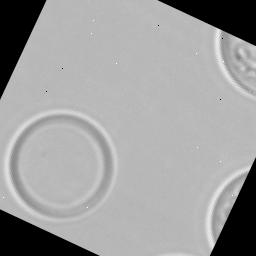picoshell: (3, 109, 116, 223), (204, 167, 249, 250), (213, 30, 256, 100)
